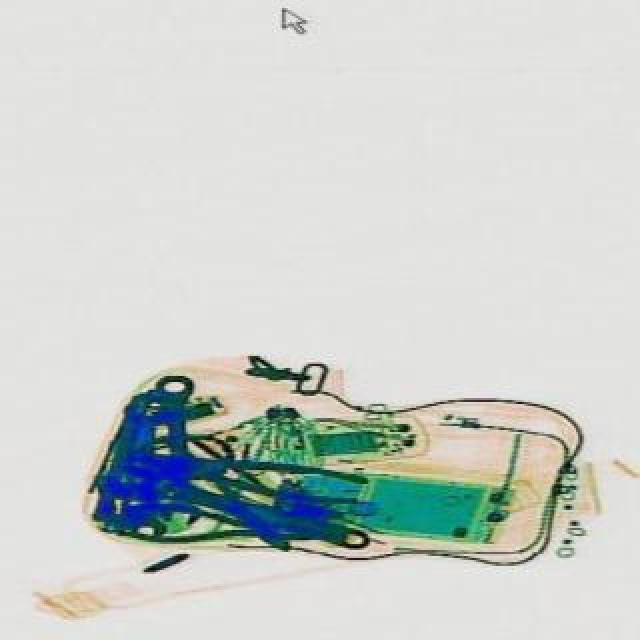scissors: (94, 448, 376, 564), (150, 372, 198, 524), (122, 400, 164, 536)
wrench: (136, 442, 368, 510)
